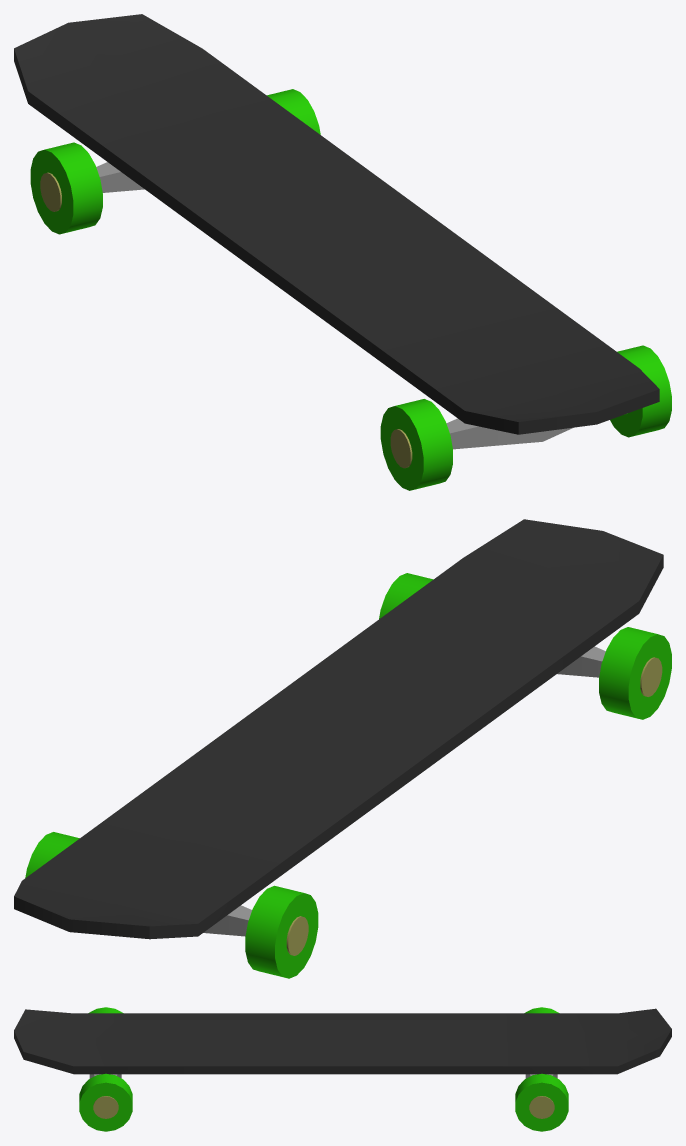
The model's file is Skateboard.fbx.
3 renders of one model, top to bottom at view 1: azimuth 30°, elevation 25°; view 2: azimuth 150°, elevation 25°; view 3: azimuth 270°, elevation 25°, orthographic. The views are drawn at different scales.
Parts seen in each view (by area): view 1: Skateboard_1372; view 2: Skateboard_1372; view 3: Skateboard_1372.
Boxes of the visible parts, x1,y1,x2,y2 form: Skateboard_1372: (14,14,671,490); Skateboard_1372: (14,519,671,978); Skateboard_1372: (14,1007,671,1131).
Size of the model in its own units: 2079 by 812 by 7566.
